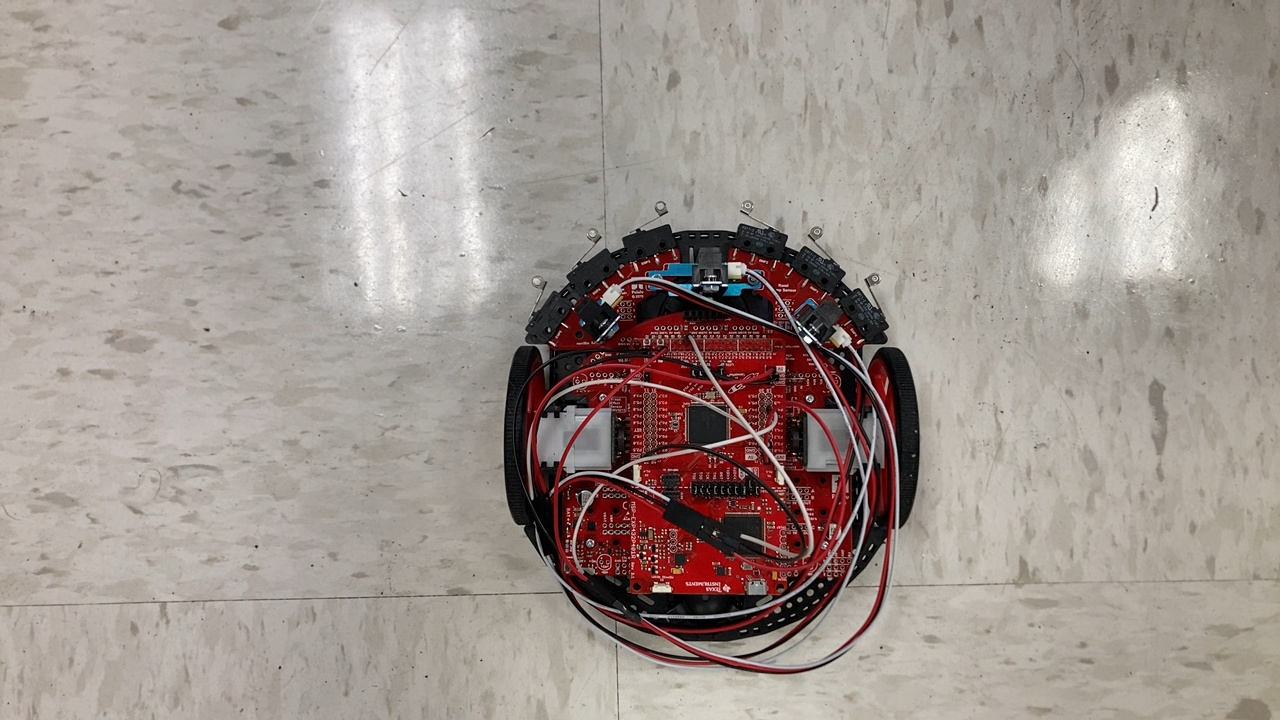robot: (489, 196, 932, 684)
